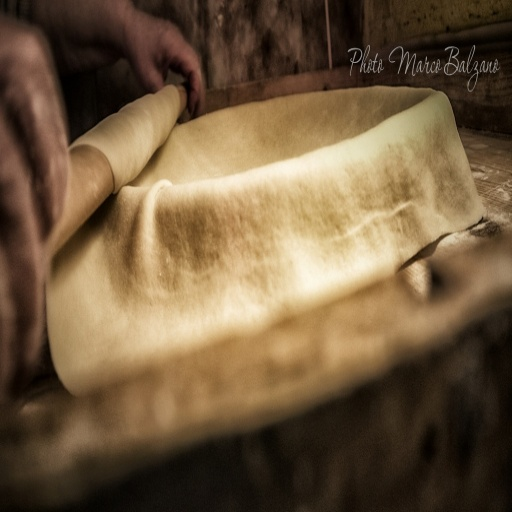hand: (0, 8, 72, 380), (130, 9, 206, 118)
